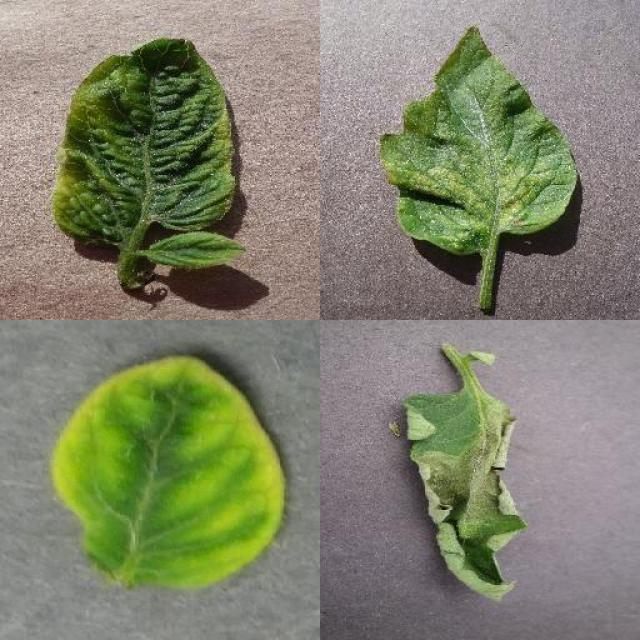Late Blight: (399, 387, 530, 605)
